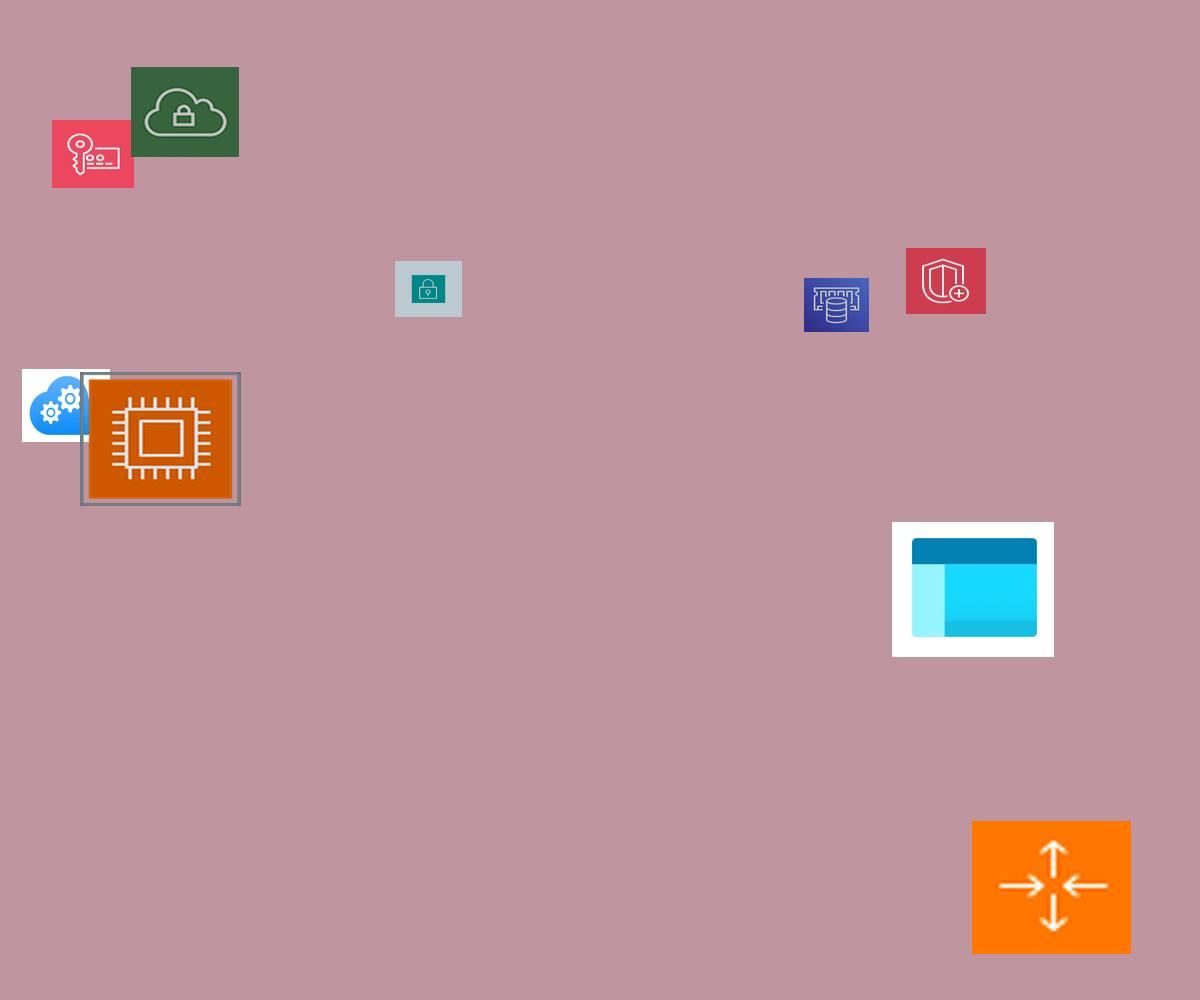AWS-Category_Compute: (80, 372, 241, 506)
AWS-ElastiCache: (804, 278, 869, 332)
AWS-Key-Management-Service: (52, 120, 134, 188)
AWS-Private-subnet: (395, 261, 462, 317)
AWS-Private_vpc: (131, 67, 239, 157)
AWS-Scaling-group: (972, 821, 1131, 954)
AWS-Shield: (906, 248, 986, 314)
Azure_cloud_services: (22, 369, 110, 442)
Azure_management-portal: (892, 522, 1054, 657)
